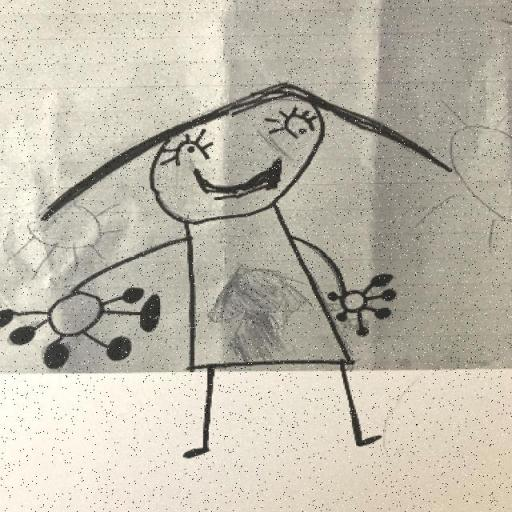person: (1, 84, 450, 457)
